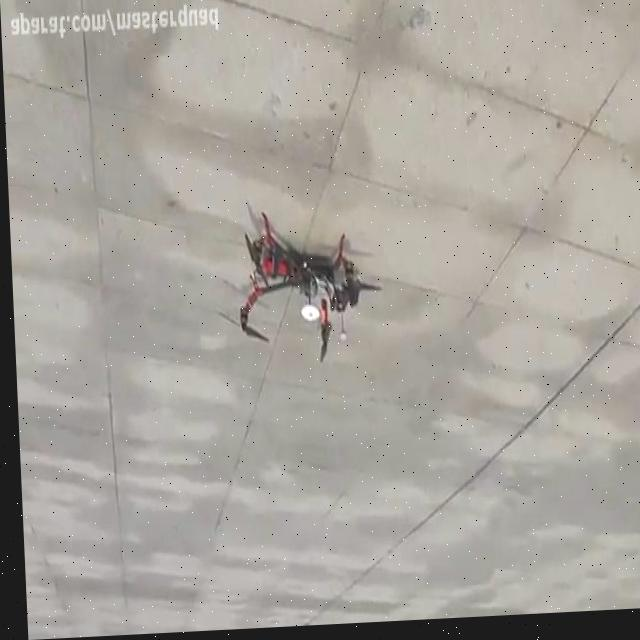drone: (205, 209, 384, 376)
